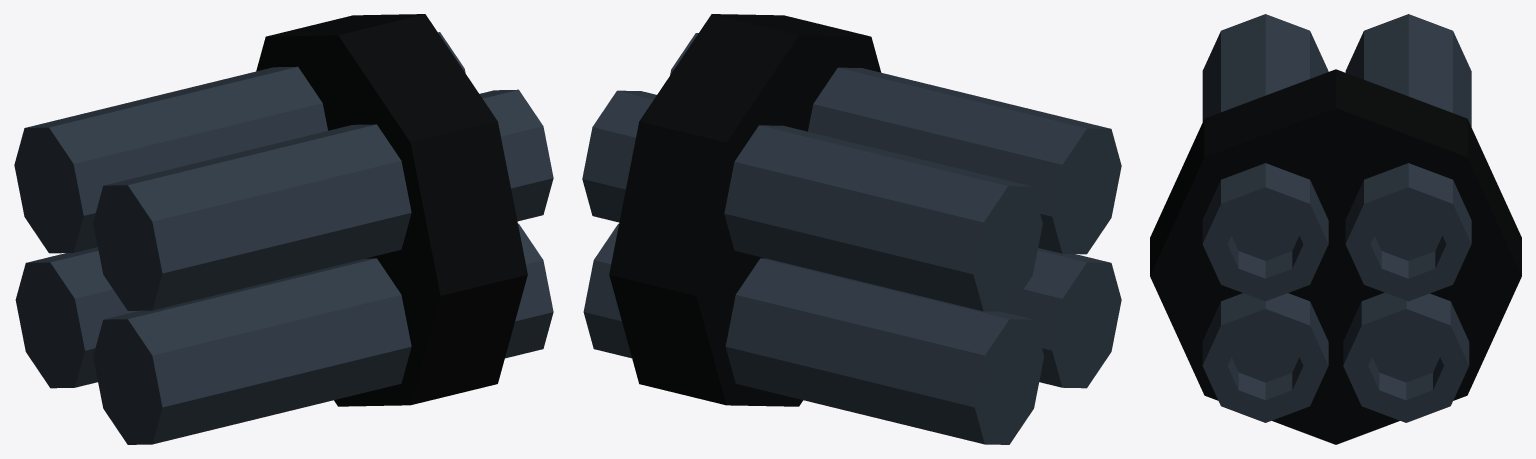
The model's file is gatlin.obj.
3 views of the same model, side by side, from view 1: azimuth 30°, elevation 25°; view 2: azimuth 150°, elevation 25°; view 3: azimuth 270°, elevation 25° (orthographic). The views are drawn at different scales.
Parts seen in each view (by area): view 1: Cube; view 2: Cube; view 3: Cube.
Part boxes in pixels (bbox=[...]): Cube: bbox=[14, 14, 553, 444]; Cube: bbox=[582, 14, 1121, 444]; Cube: bbox=[1150, 14, 1521, 444].
Size of the model in its own units: 0.2691 by 0.2442 by 0.2442.
